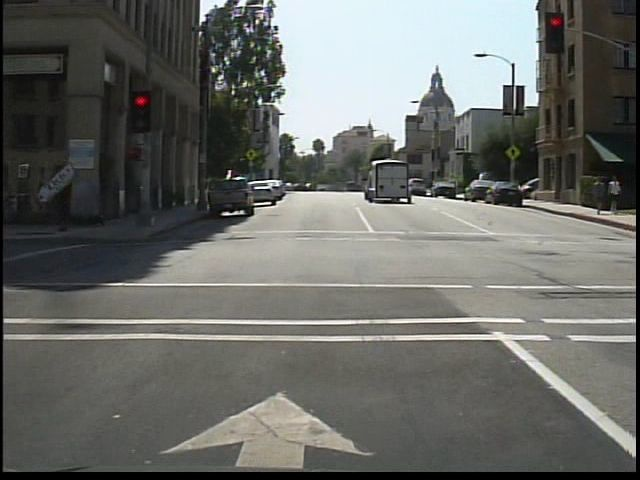person: (50, 166, 91, 234), (588, 177, 608, 219), (607, 175, 622, 219)
